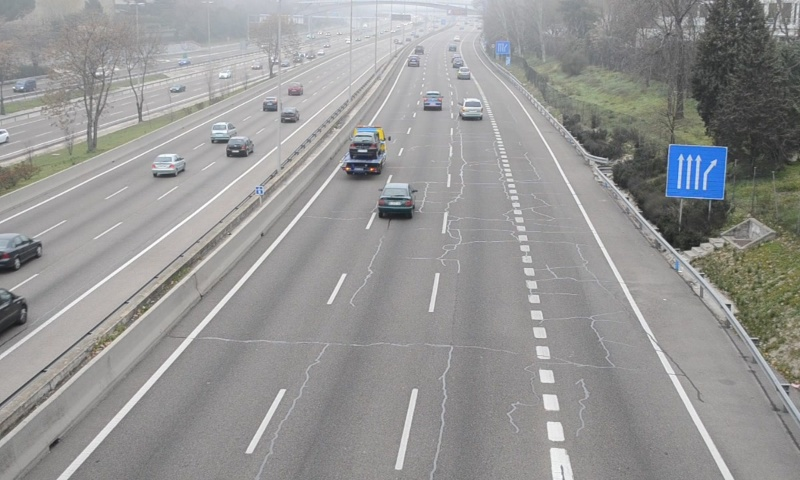car: (378, 182, 415, 217), (459, 98, 484, 118), (423, 91, 443, 110)
small-truck: (341, 126, 387, 176)
